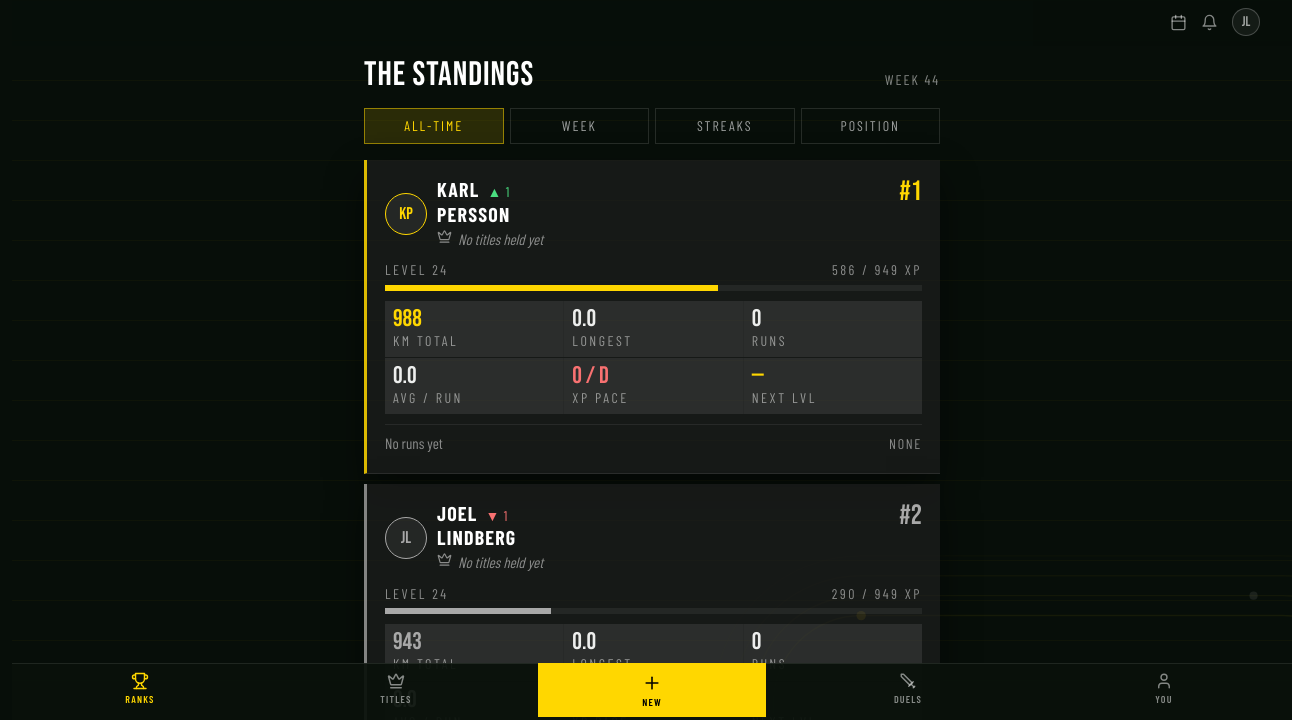
Test: bakgrundsbanan — var den finns › samma bakgrundselement står kvar när man byter sida, så banan hoppar inte
Click the link "Titles" at x=396, y=688, box [380,672,412,705]
(page scrolled)
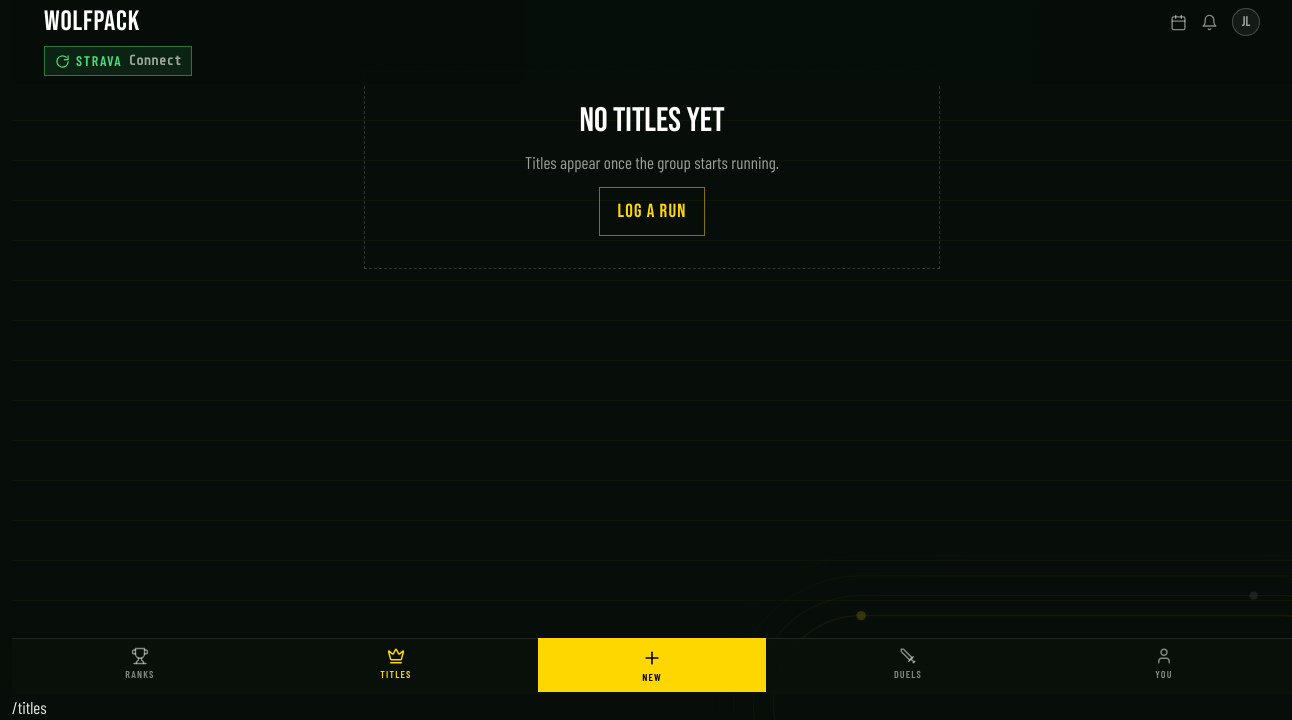
Expected: the text with test id "location" reads "/titles", [12,697,47,717]
